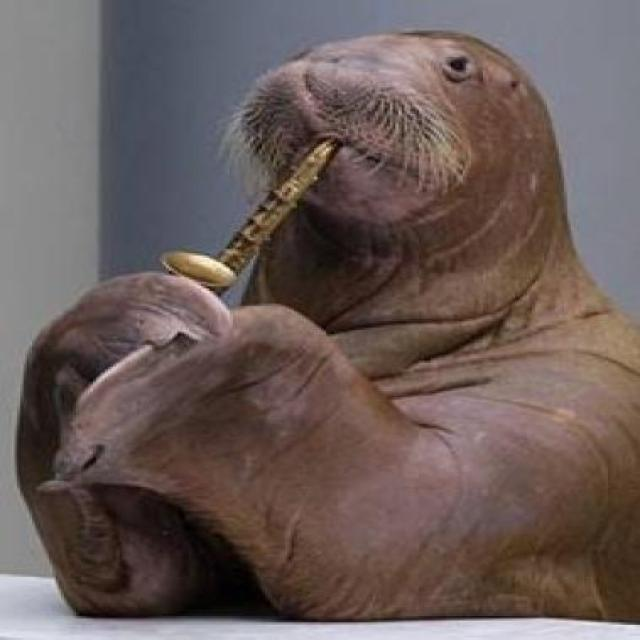walrus: (27, 16, 622, 628)
